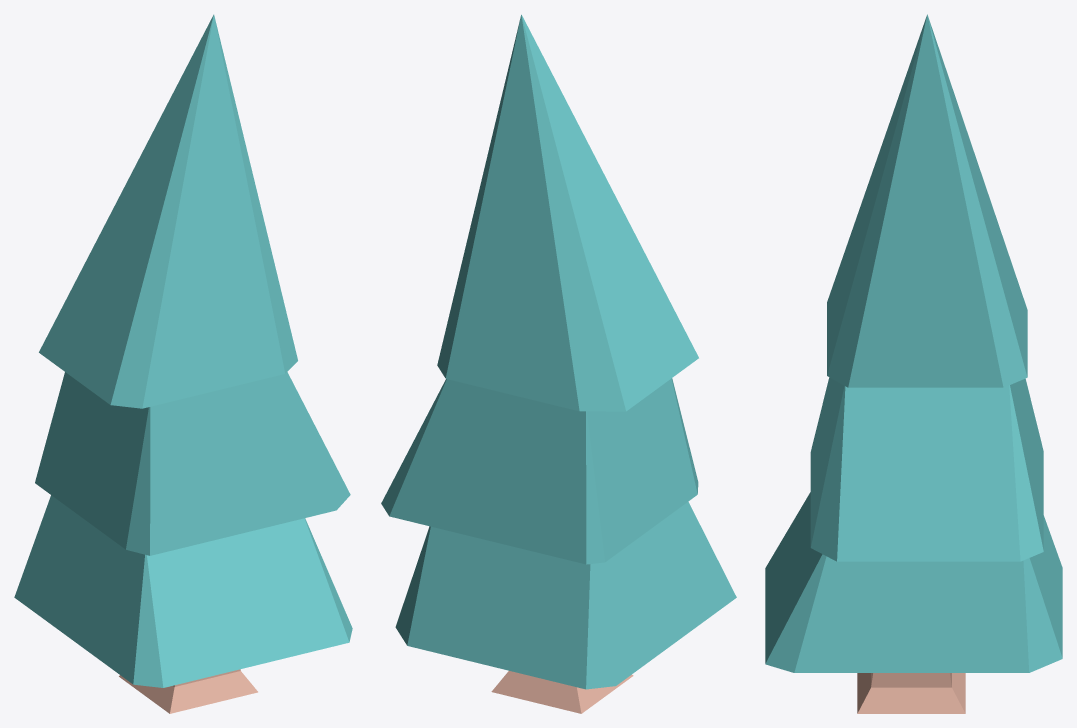
The model's file is tree_pineSmallB.glb.
The picture shows the model from 3 angles, left to right: view 1: azimuth 30°, elevation 25°; view 2: azimuth 150°, elevation 25°; view 3: azimuth 270°, elevation 25°; orthographic projection. The views are drawn at different scales.
Parts seen in each view (by area): view 1: tree_pineSmallB; view 2: tree_pineSmallB; view 3: tree_pineSmallB.
Boxes of the visible parts, x1,y1,x2,y2 form: tree_pineSmallB: (14,14,352,713); tree_pineSmallB: (381,14,736,713); tree_pineSmallB: (765,14,1062,713).
Bounding box in the file's own units: 0.3863 × 1.01 × 0.392.
